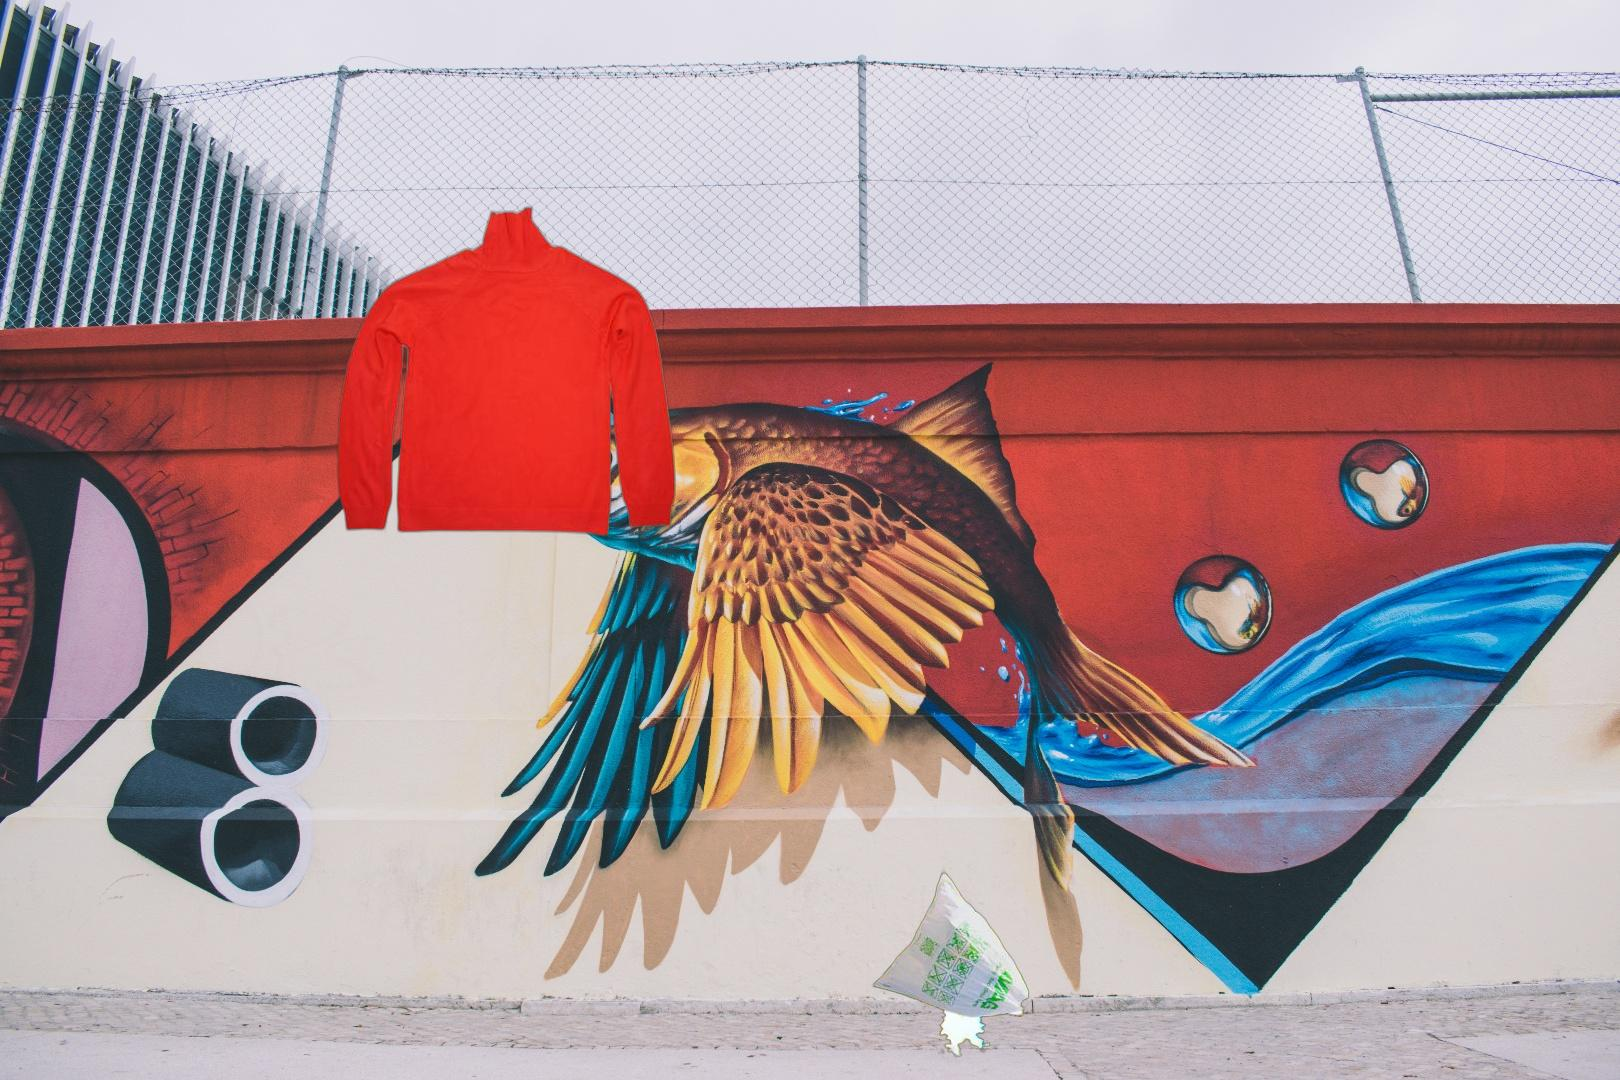clothes: (334, 202, 679, 541)
metal-cans: (268, 982, 435, 1080)
plastic-bag: (869, 862, 1037, 1072)
